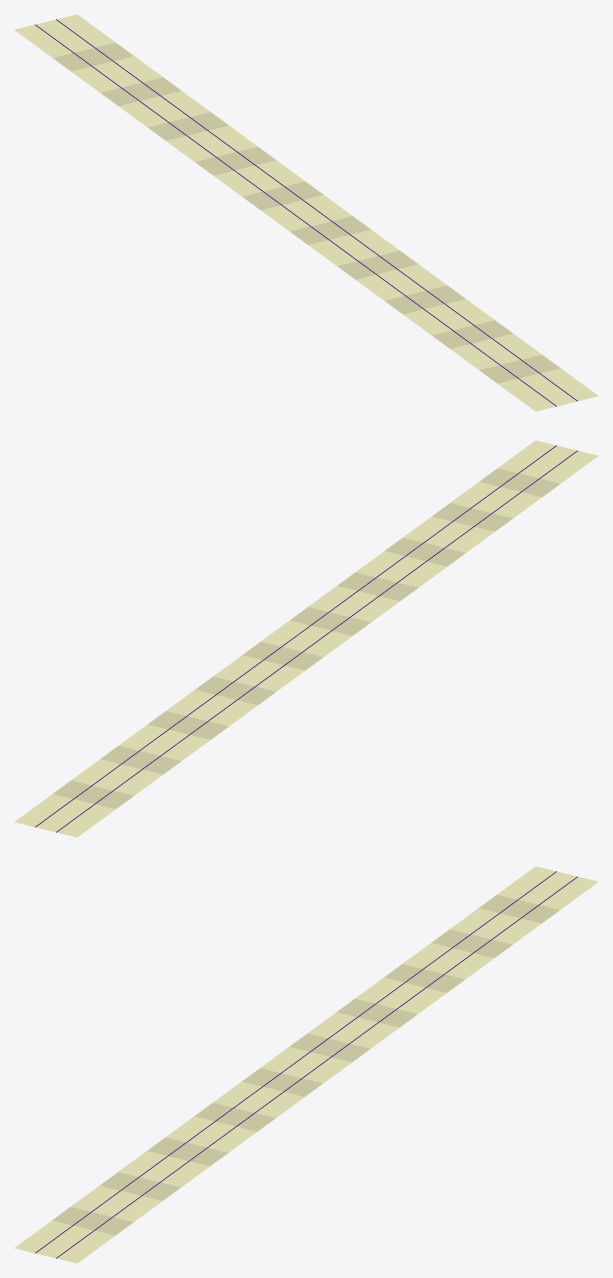
File: Road.fbx
3 renders of one model, top to bottom at view 1: azimuth 30°, elevation 25°; view 2: azimuth 150°, elevation 25°; view 3: azimuth 330°, elevation 25°, orthographic.
Parts seen in each view (by area): view 1: Stage_008; view 2: Stage_008; view 3: Stage_008.
Part boxes in pixels (x1,y1,x2,y2): Stage_008: [14, 14, 598, 411]; Stage_008: [14, 440, 598, 837]; Stage_008: [14, 866, 598, 1263].
Bounding box in the file's own units: 703 × 10043 × 6.11e-13.
